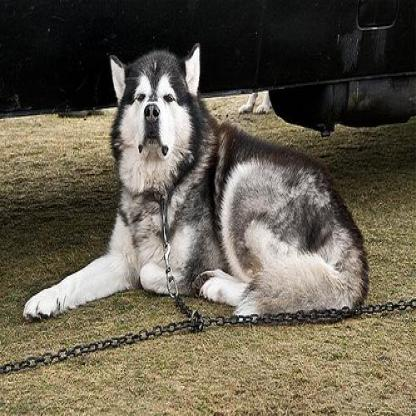Eskimo_dog: (21, 38, 367, 320)
